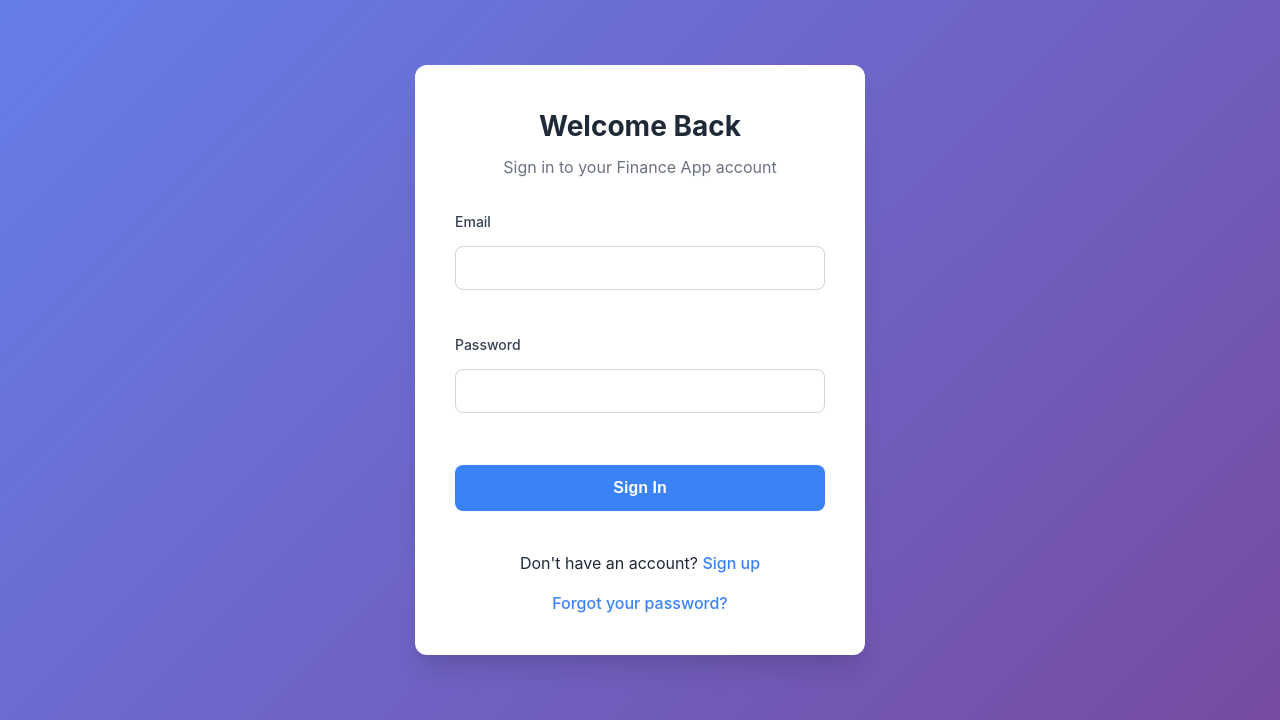
Scenario: Login Component › displays loading state during submission
Type "test@example.com" into the field labelled "Email".
click(640, 268); type("test@example.com")  # box [455,246,825,290]
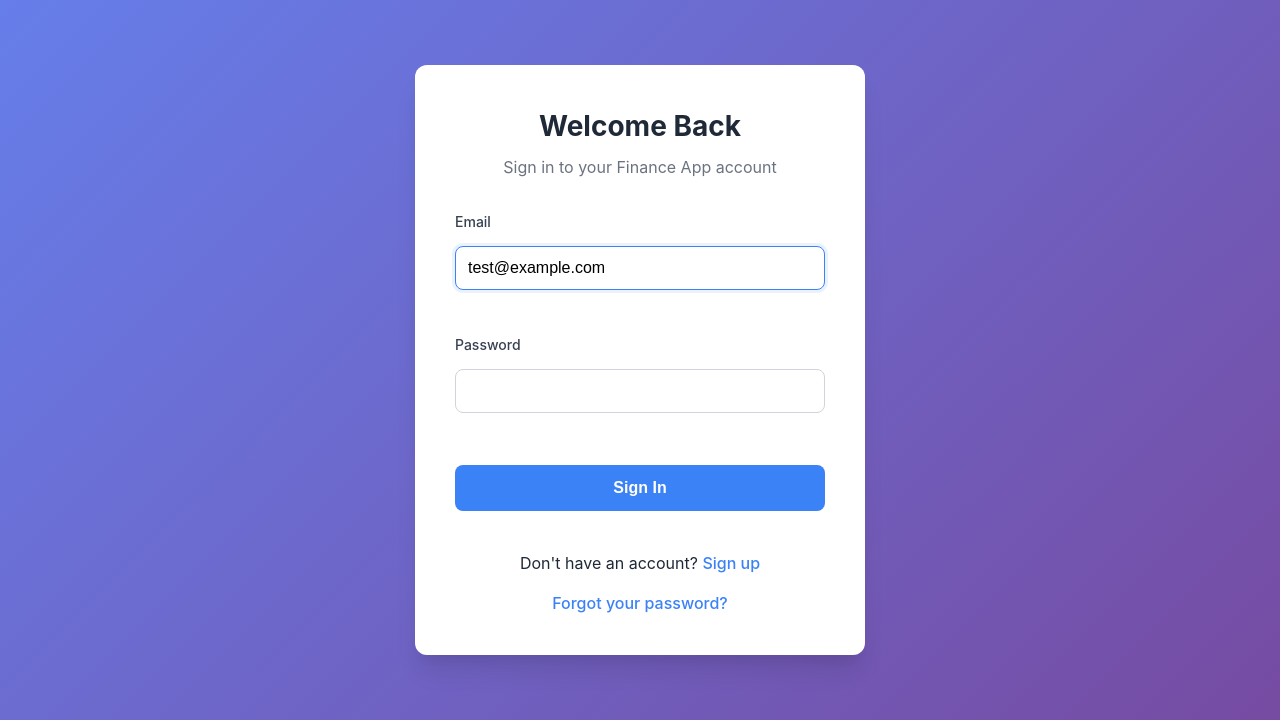
Type "password123" into the password field labelled "Password".
click(640, 391); type("password123")  # box [455,369,825,413]
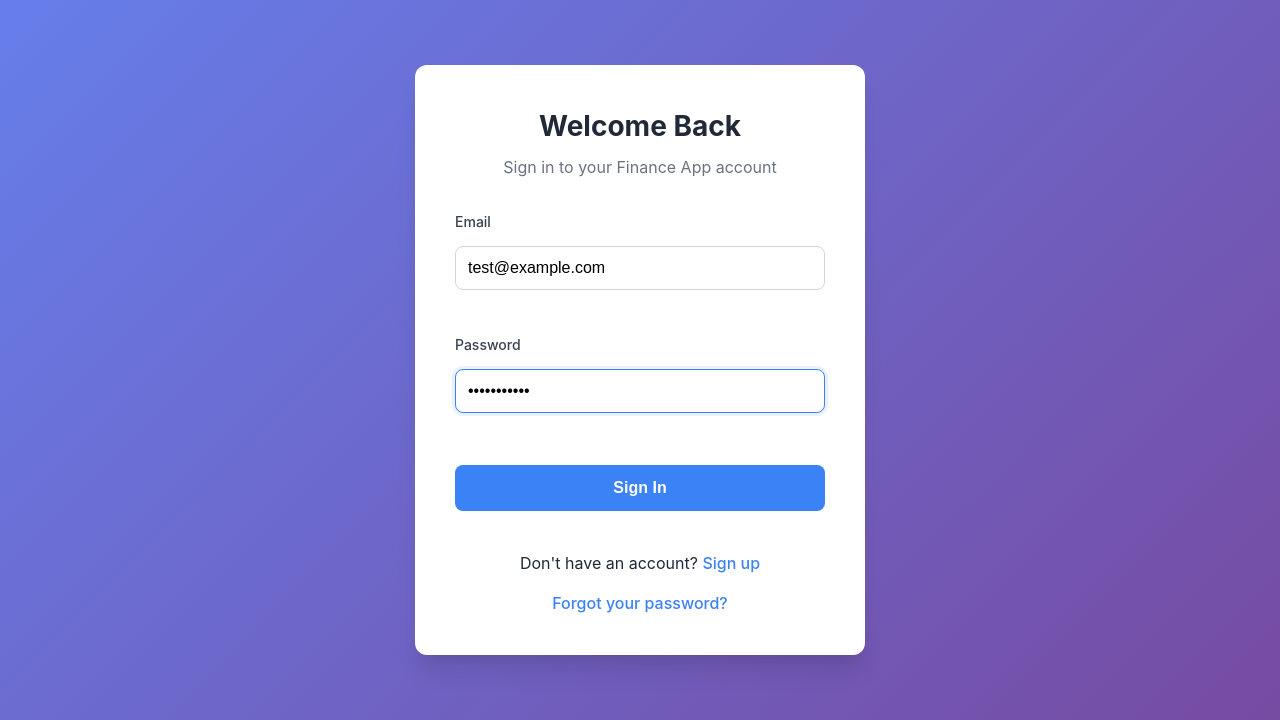
Click the button "Sign In".
click(640, 488)  # box [455,465,825,511]
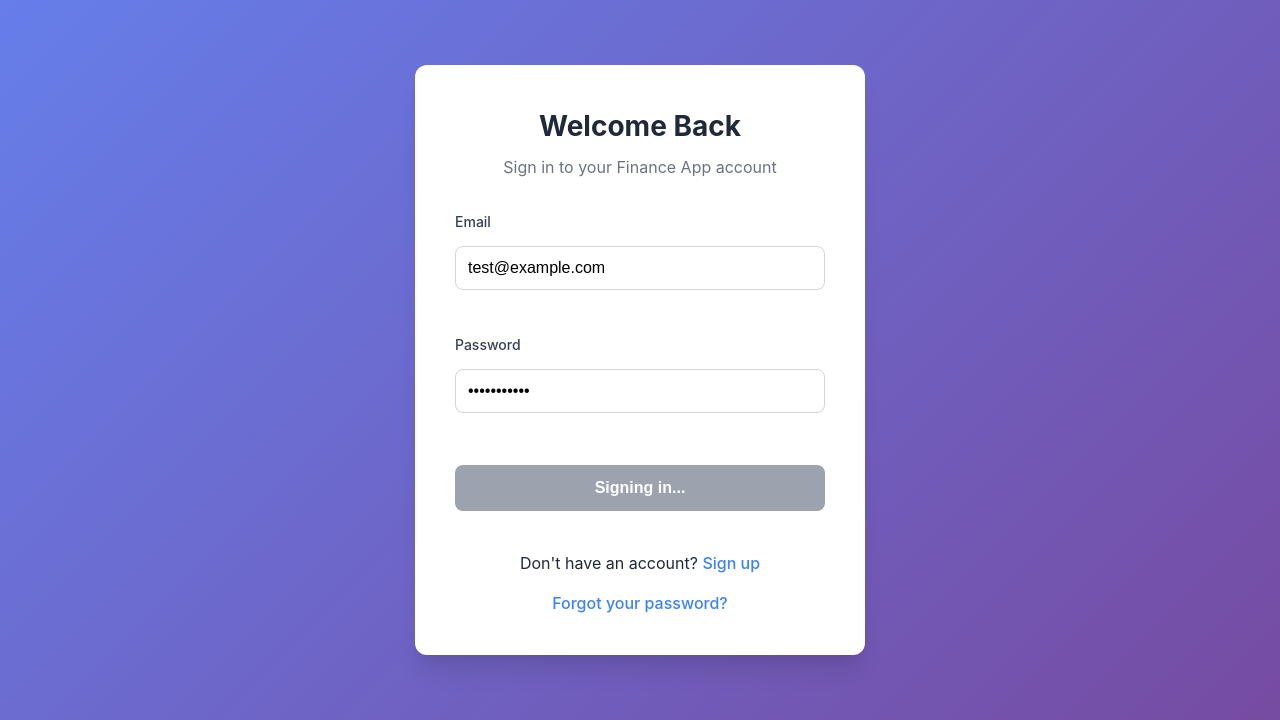
Now the button "Signing in..." is disabled, box [455,465,825,511]
